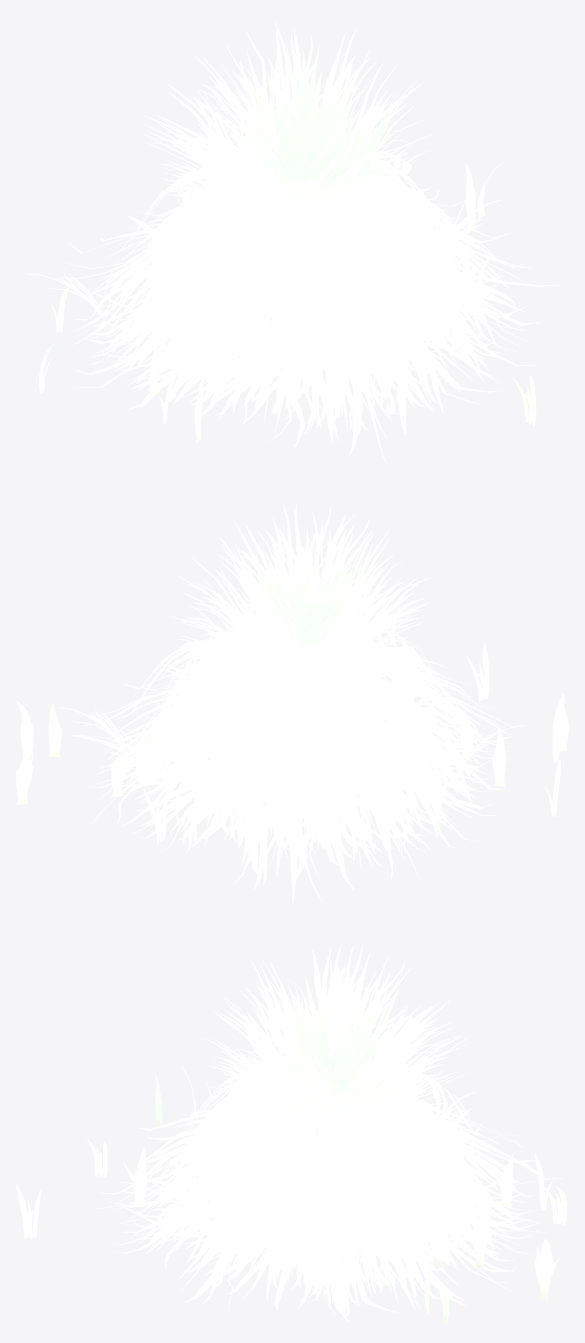
3 views of the same model, one above another, from view 1: azimuth 30°, elevation 25°; view 2: azimuth 150°, elevation 25°; view 3: azimuth 270°, elevation 25° (orthographic). The views are drawn at different scales.
Parts seen in each view (by area): view 1: SM_SwampSedge_02_LOD0; view 2: SM_SwampSedge_02_LOD0; view 3: SM_SwampSedge_02_LOD0.
Boxes of the visible parts, x1=… form: SM_SwampSedge_02_LOD0: x1=24, y1=22, x2=562, y2=464; SM_SwampSedge_02_LOD0: x1=15, y1=503, x2=569, y2=904; SM_SwampSedge_02_LOD0: x1=16, y1=942, x2=566, y2=1324.
Bounding box in the file's own units: 1.32 × 0.8165 × 1.3.
Materials: 1 (1 with a texture image).
